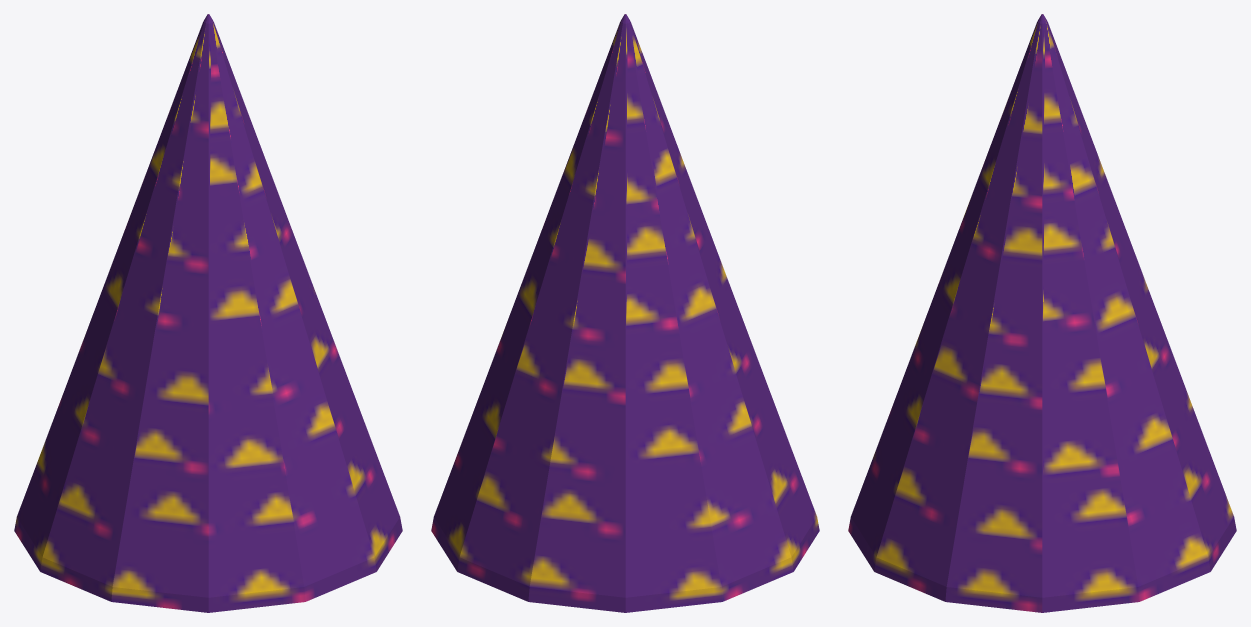
File: party_hat_shapes.glb
3 renders of one model, left to right at view 1: azimuth 30°, elevation 25°; view 2: azimuth 150°, elevation 25°; view 3: azimuth 270°, elevation 25°, orthographic.
Parts seen in each view (by area): view 1: party_hat_shapes_body; view 2: party_hat_shapes_body; view 3: party_hat_shapes_body.
Boxes of the visible parts, box(x1,y1,x2,y2) form: party_hat_shapes_body: box(14, 14, 402, 612); party_hat_shapes_body: box(431, 14, 819, 612); party_hat_shapes_body: box(848, 14, 1236, 612).
Bounding box in the file's own units: 0.15 × 0.22 × 0.15.
Materials: 2 (2 with a texture image).
